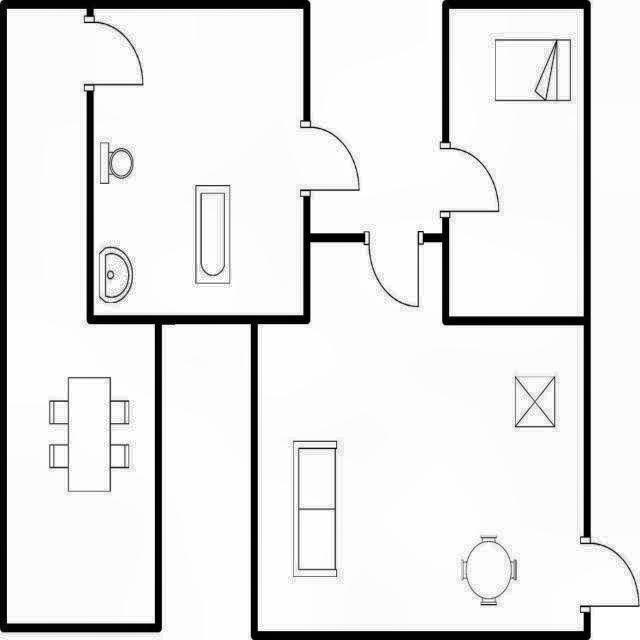room: (257, 241, 585, 631), (7, 9, 155, 624), (93, 8, 303, 315), (449, 9, 583, 316)
